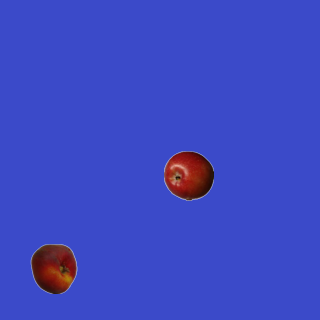Apple Braeburn: (163, 150, 213, 200)
Nectarine Flat: (28, 243, 78, 293)
